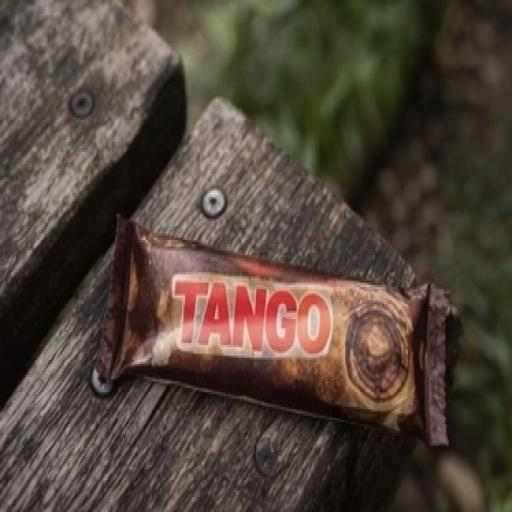tango: (74, 154, 469, 486)
